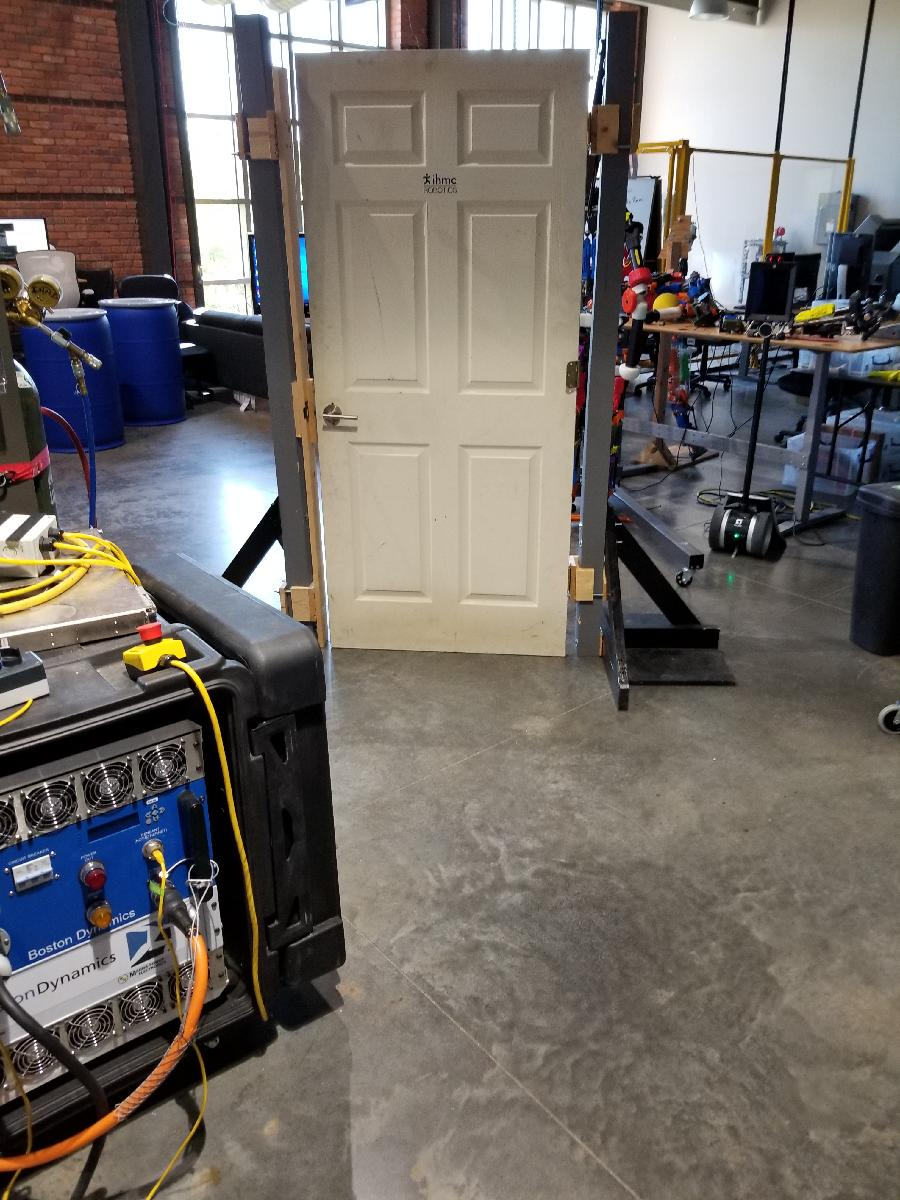door: (292, 46, 592, 667)
doorHandle: (317, 401, 369, 437)
